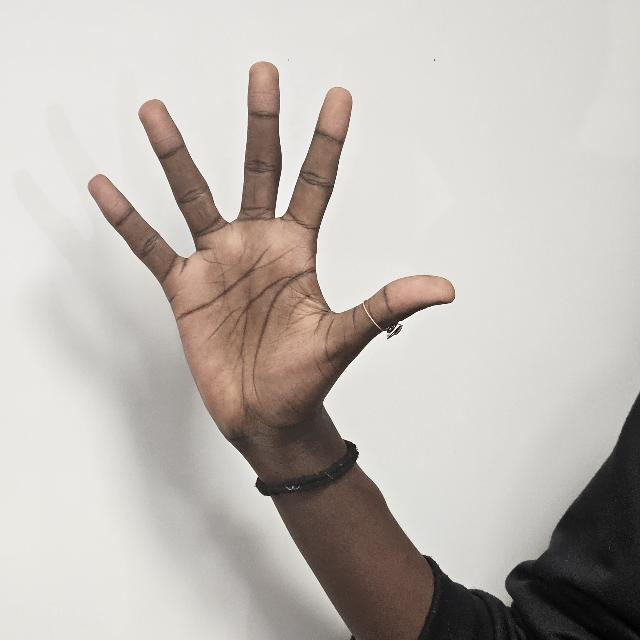X: (90, 61, 454, 478)
